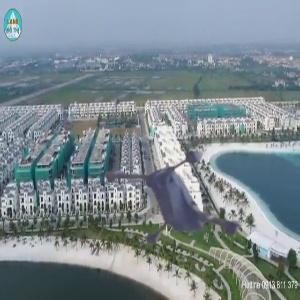drone: (118, 123, 276, 281)
